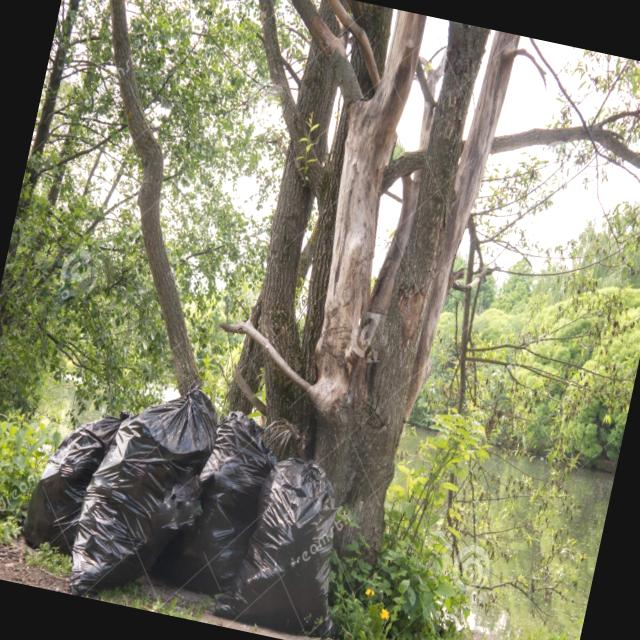garbage: (0, 351, 372, 640)
